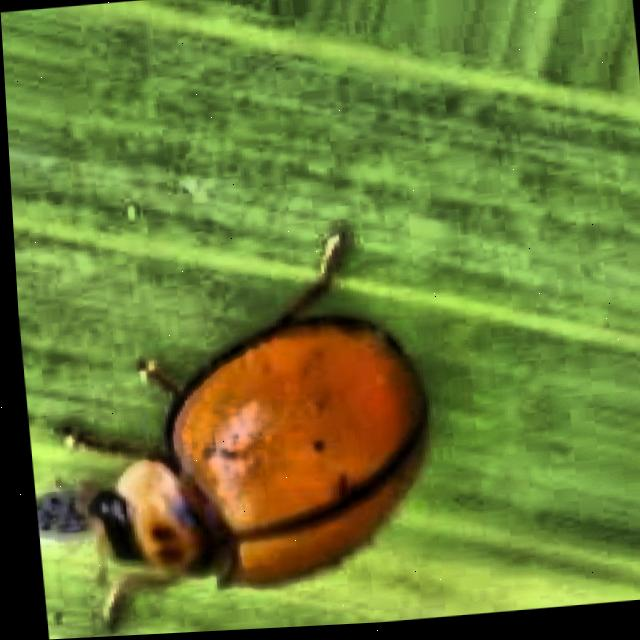Ladybug: (11, 224, 502, 639)
